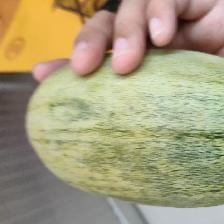gua: (25, 49, 224, 207)
